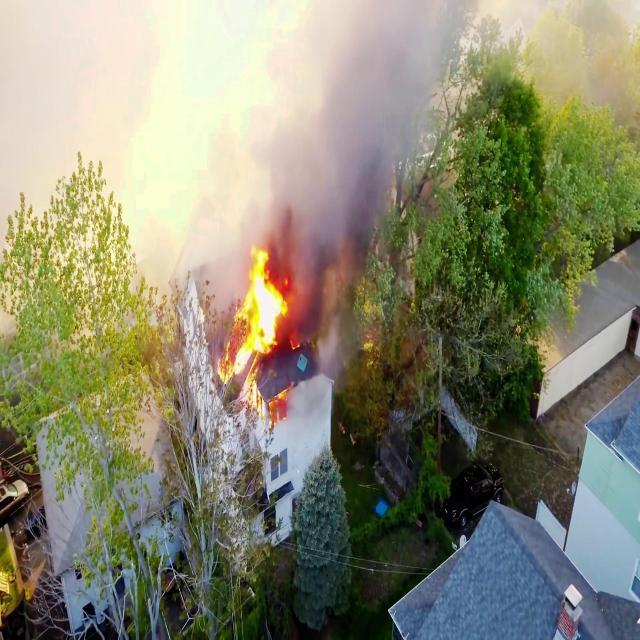Fire: (235, 242, 283, 350)
Smoke: (239, 24, 405, 165)
